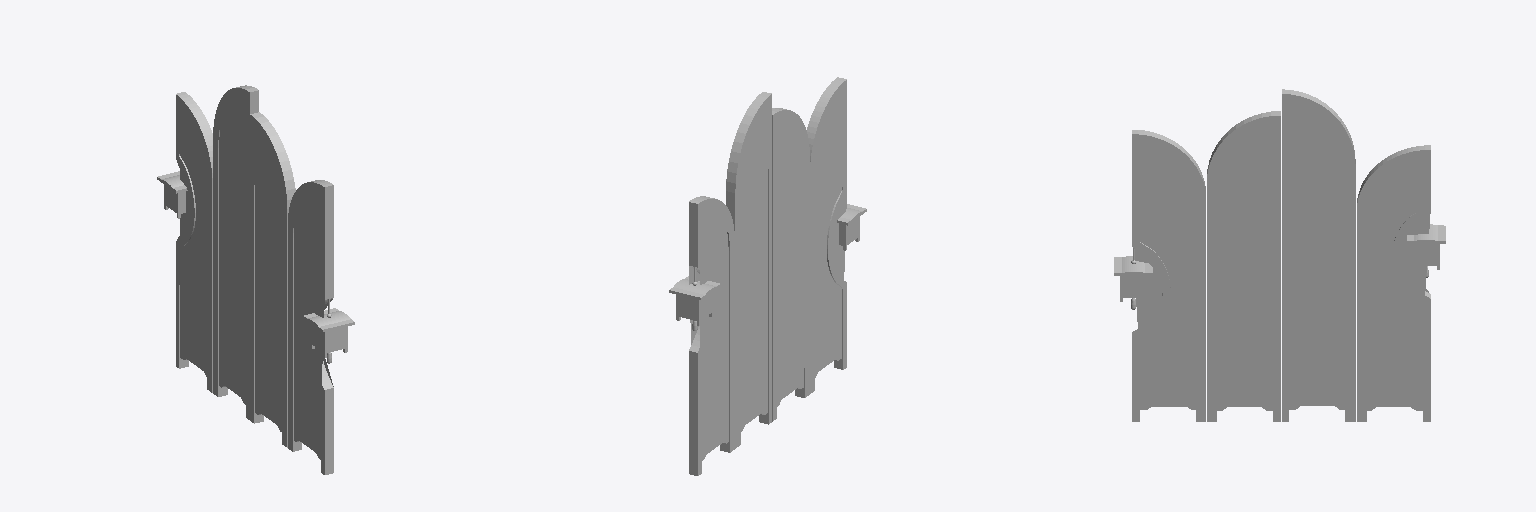
File: Biombo.obj
The picture shows the model from 3 angles: view 1: azimuth 30°, elevation 25°; view 2: azimuth 150°, elevation 25°; view 3: azimuth 270°, elevation 25°; orthographic projection.
Parts seen in each view (by area): view 1: Biombo_Cube.015; view 2: Biombo_Cube.015; view 3: Biombo_Cube.015.
Boxes of the visible parts, x1,y1,x2,y2 form: Biombo_Cube.015: [157, 85, 354, 474]; Biombo_Cube.015: [669, 77, 866, 475]; Biombo_Cube.015: [1114, 89, 1445, 421].
Bounding box in the file's own units: 0.3496 × 3.4 × 3.11.